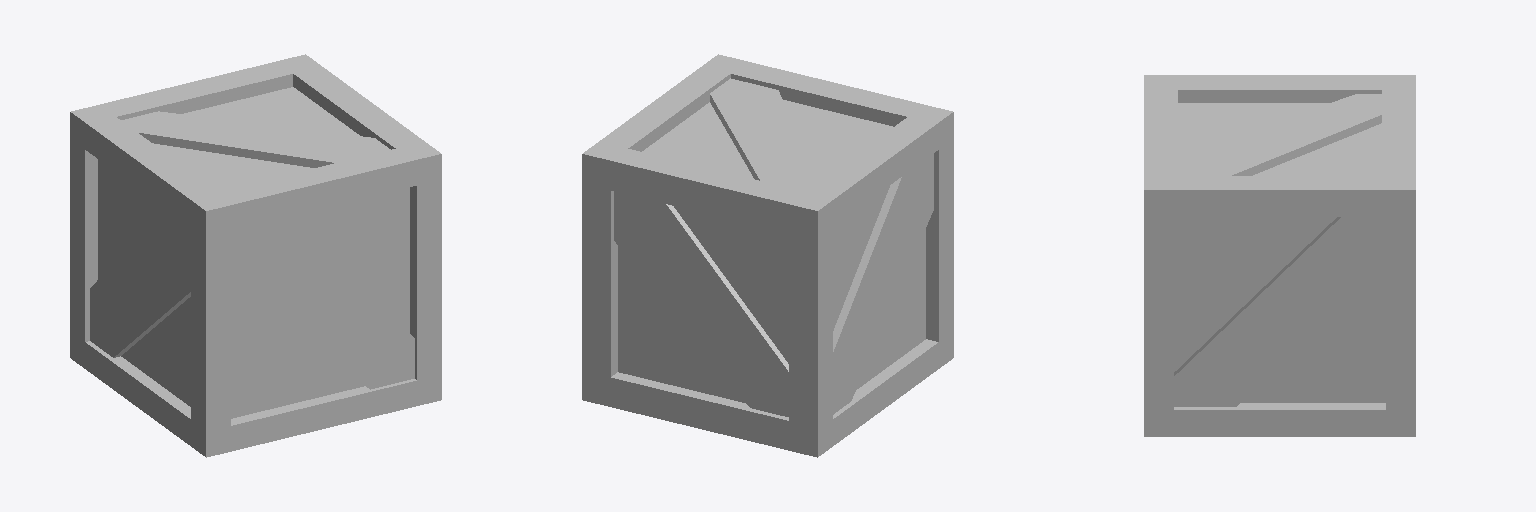
File: small box.obj
The picture shows the model from 3 angles: view 1: azimuth 30°, elevation 25°; view 2: azimuth 150°, elevation 25°; view 3: azimuth 270°, elevation 25°; orthographic projection.
Visible parts, largest first — view 1: Cube.167; view 2: Cube.167; view 3: Cube.167.
Boxes of the visible parts, x1=… form: Cube.167: x1=70, y1=54, x2=441, y2=457; Cube.167: x1=582, y1=54, x2=953, y2=457; Cube.167: x1=1144, y1=75, x2=1415, y2=436.
Size of the model in its own units: 1.98 by 1.98 by 1.98.